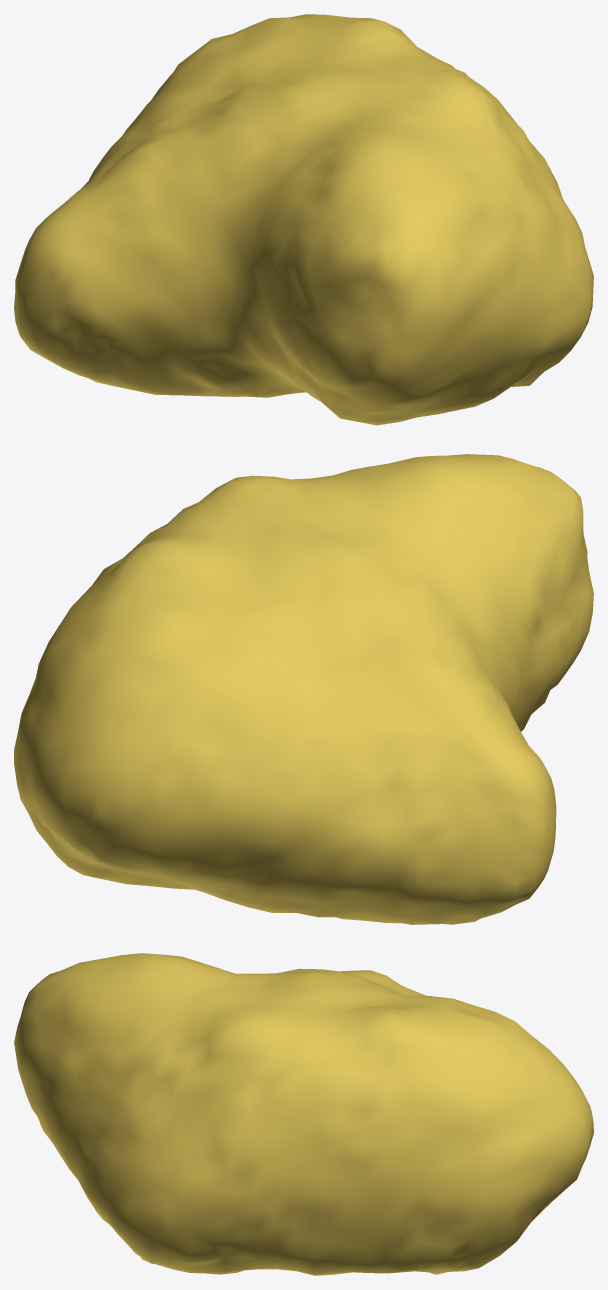
The model's file is roca.obj.
3 views of the same model, one above another, from view 1: azimuth 30°, elevation 25°; view 2: azimuth 150°, elevation 25°; view 3: azimuth 270°, elevation 25° (orthographic). The views are drawn at different scales.
Visible parts, largest first — view 1: Stone; view 2: Stone; view 3: Stone.
Part boxes in pixels (x1,y1,x2,y2): Stone: [14, 14, 593, 425]; Stone: [14, 454, 593, 924]; Stone: [14, 953, 593, 1275].
Size of the model in its own units: 486 by 320 by 611.
